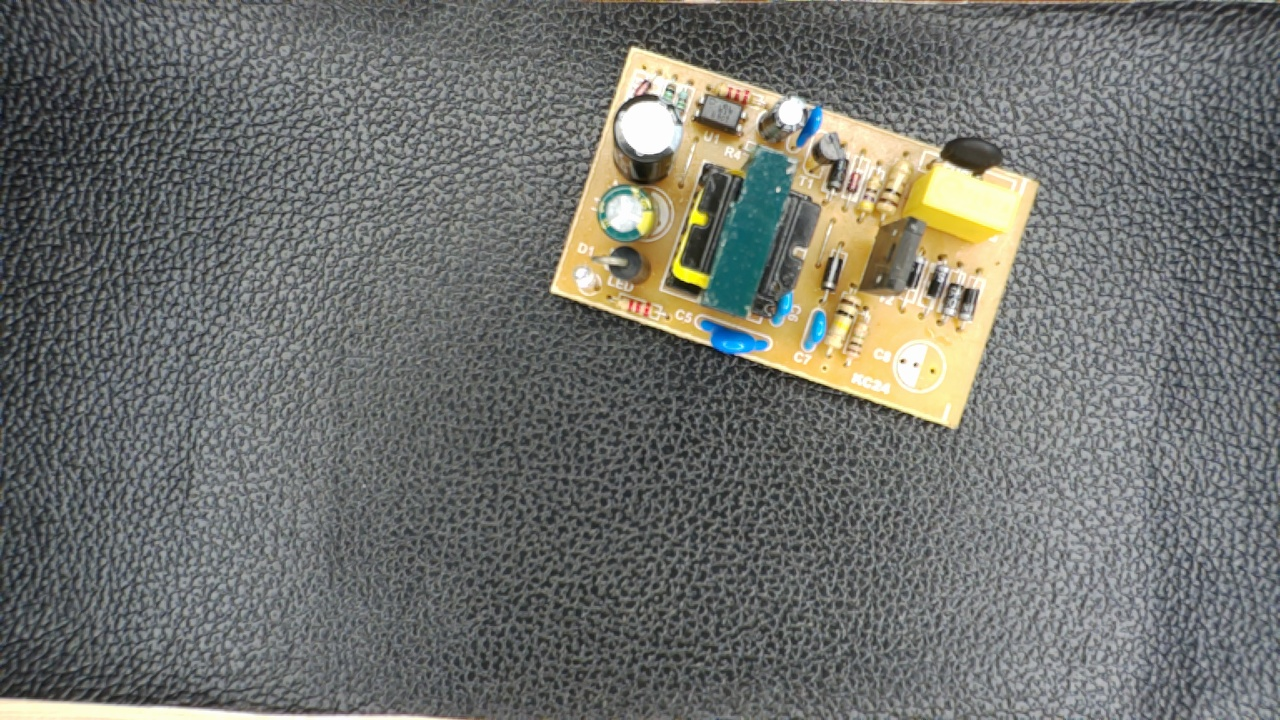fuse: (915, 134, 1014, 180)
mov: (690, 309, 776, 359)
optocoupler: (690, 87, 749, 137)
